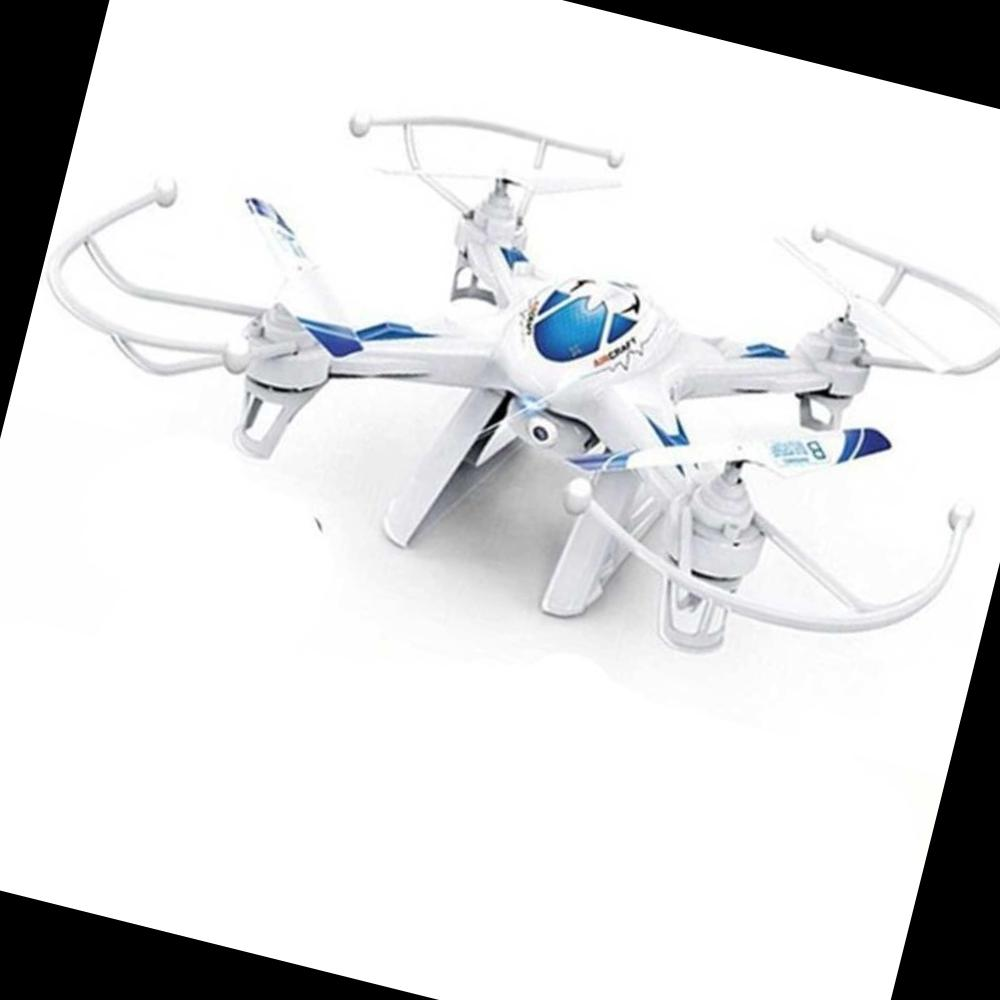drone: (9, 0, 1000, 744)
